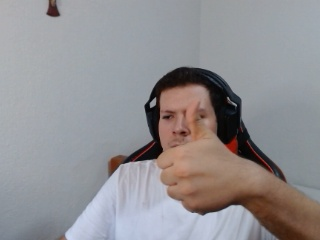Adelante: (156, 95, 263, 223)
